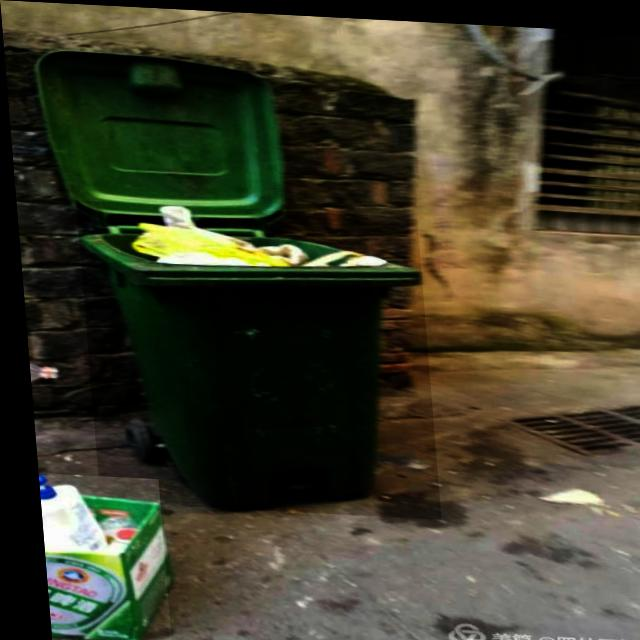garbage: (30, 473, 161, 640)
overflow: (73, 199, 433, 515)
